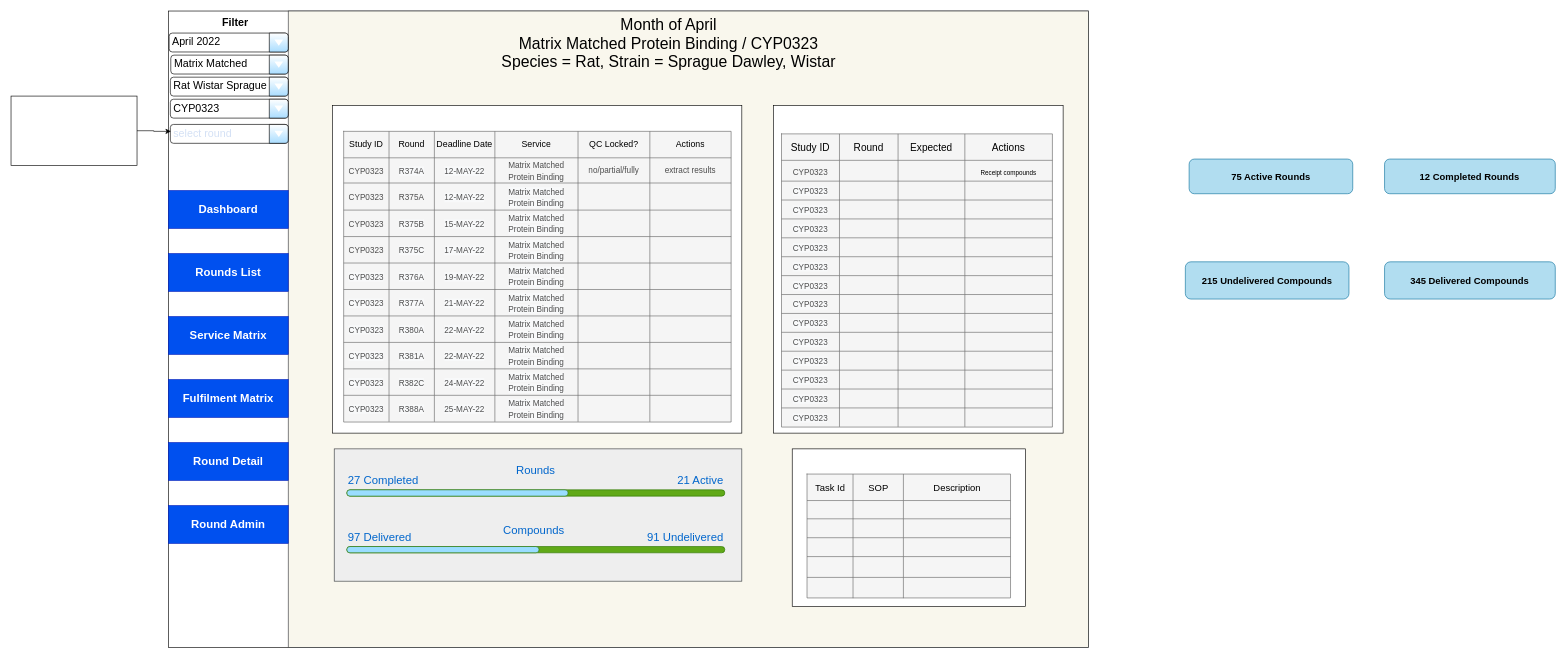
This 1567x658 diagram has some shape labels left out. The box of each missing label's shape, as (x1, y1, x2, y2) in pixels:
Allow contract round selection in Rounds List, e.g. R1 yields R1A, R1B, R1C, etc: (10, 95, 137, 165)
Recent Labsys Jobs: (792, 448, 1025, 606)
Upcoming compound inwards: (773, 105, 1063, 433)
Upcoming deadlines: (332, 105, 742, 433)
